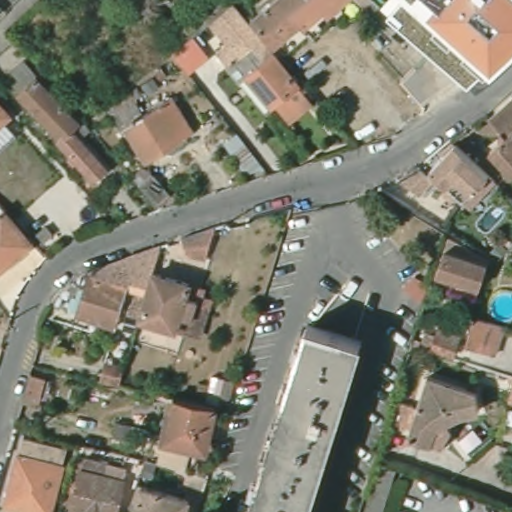pool: (486, 287, 512, 326)
